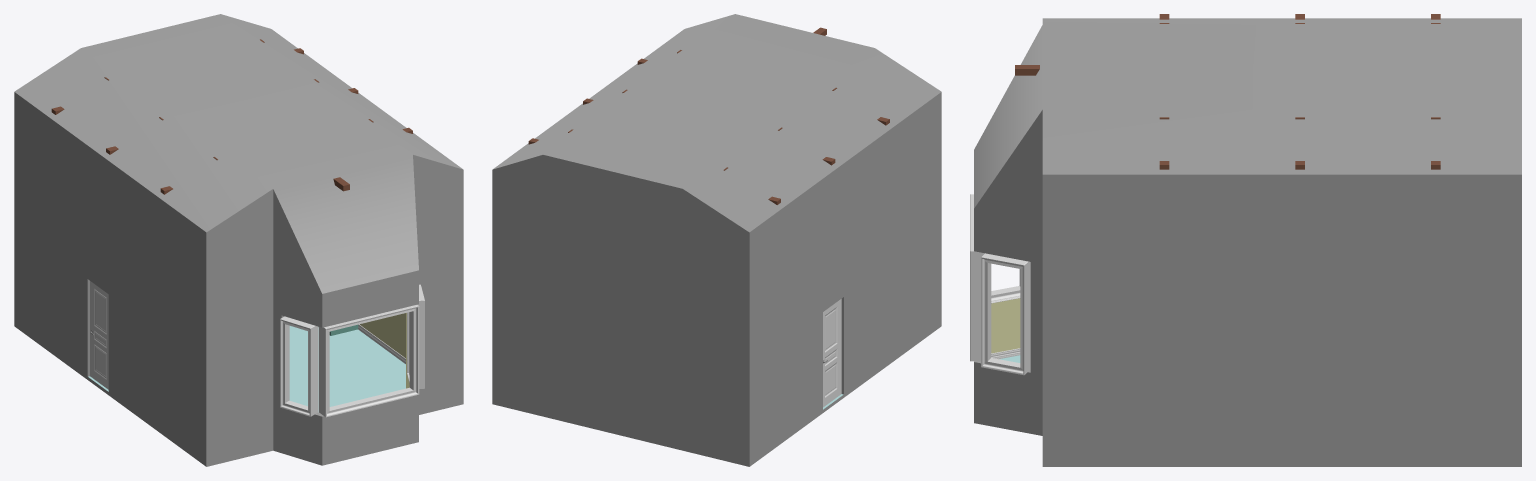
The model's file is KitchenSet_mar6.fbx.
3 views of the same model, side by side, from view 1: azimuth 30°, elevation 25°; view 2: azimuth 150°, elevation 25°; view 3: azimuth 270°, elevation 25° (orthographic). The views are drawn at different scales.
Visible parts, largest first — view 1: polySurface453, polySurface361, pCube64, polySurface481; view 2: polySurface453, pCube64, polySurface481; view 3: polySurface453, polySurface361, polySurface481.
Boxes of the visible parts, bbox=[...] form: polySurface453: bbox=[14, 14, 463, 466]; polySurface361: bbox=[280, 284, 424, 417]; pCube64: bbox=[90, 281, 108, 389]; polySurface481: bbox=[51, 39, 412, 363]; polySurface453: bbox=[492, 14, 941, 466]; pCube64: bbox=[823, 299, 841, 407]; polySurface481: bbox=[528, 27, 889, 204]; polySurface453: bbox=[974, 18, 1521, 466]; polySurface361: bbox=[970, 194, 1030, 375]; polySurface481: bbox=[991, 14, 1440, 359].
Bounding box in the file's own units: 5.46 × 5.31 × 8.14.
